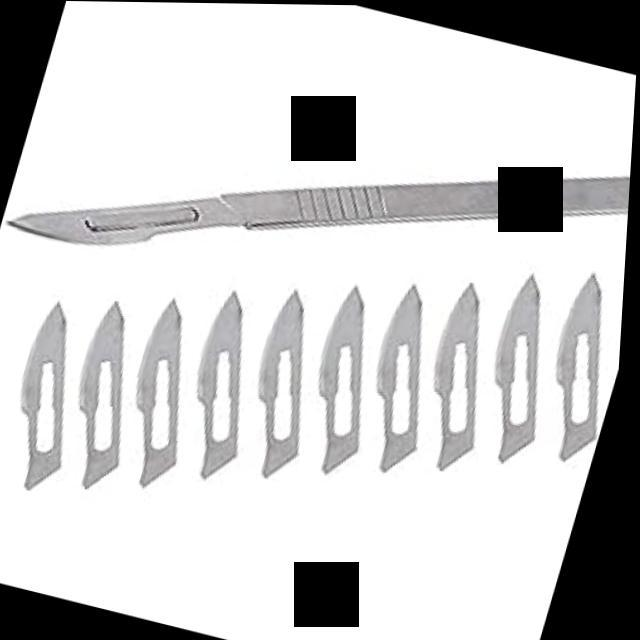Knife handle: (73, 44, 638, 359)
Surgical blade: (0, 143, 260, 295), (43, 284, 161, 498), (107, 284, 220, 498), (288, 276, 402, 479), (0, 280, 109, 491), (170, 286, 284, 484), (468, 266, 579, 468), (410, 276, 520, 474), (352, 276, 459, 478), (232, 284, 341, 480), (530, 266, 628, 460)
